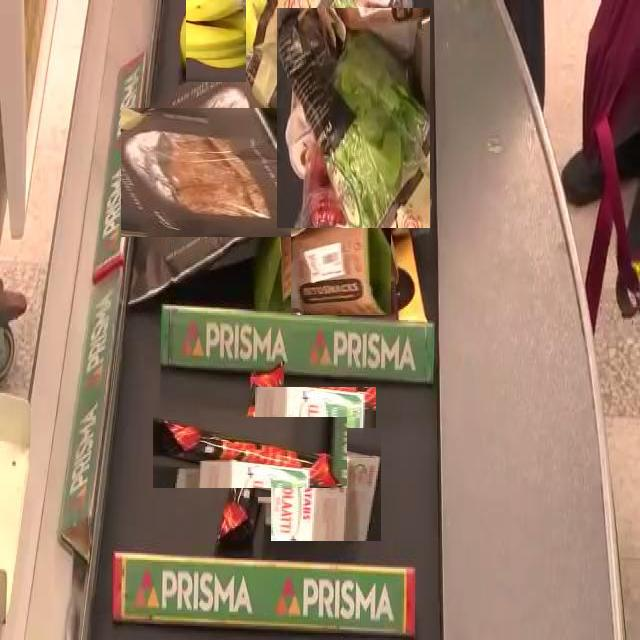food-box: (132, 96, 286, 249), (183, 386, 316, 519), (257, 384, 373, 500), (270, 428, 382, 540)
fruit: (175, 0, 257, 71)
utility-box: (287, 202, 396, 310)
vegetable: (276, 7, 430, 228)
